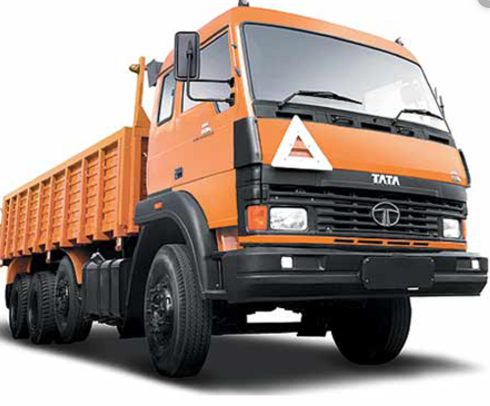truck: (2, 1, 489, 391)
